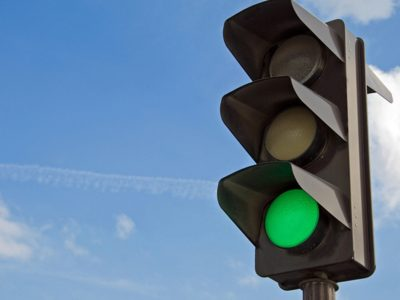trafficlight_green: (235, 16, 341, 254)
